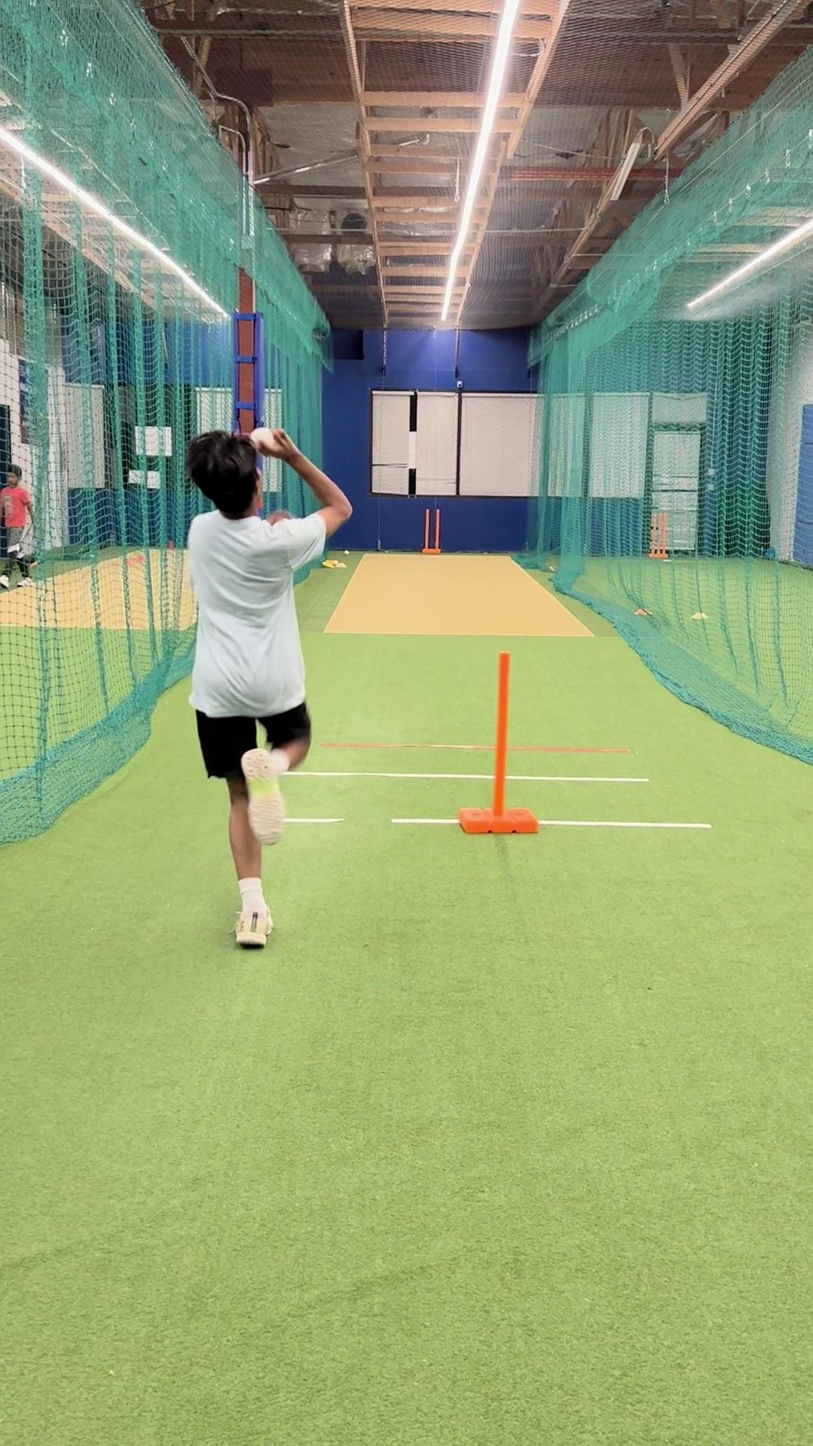ball: (245, 423, 278, 455)
